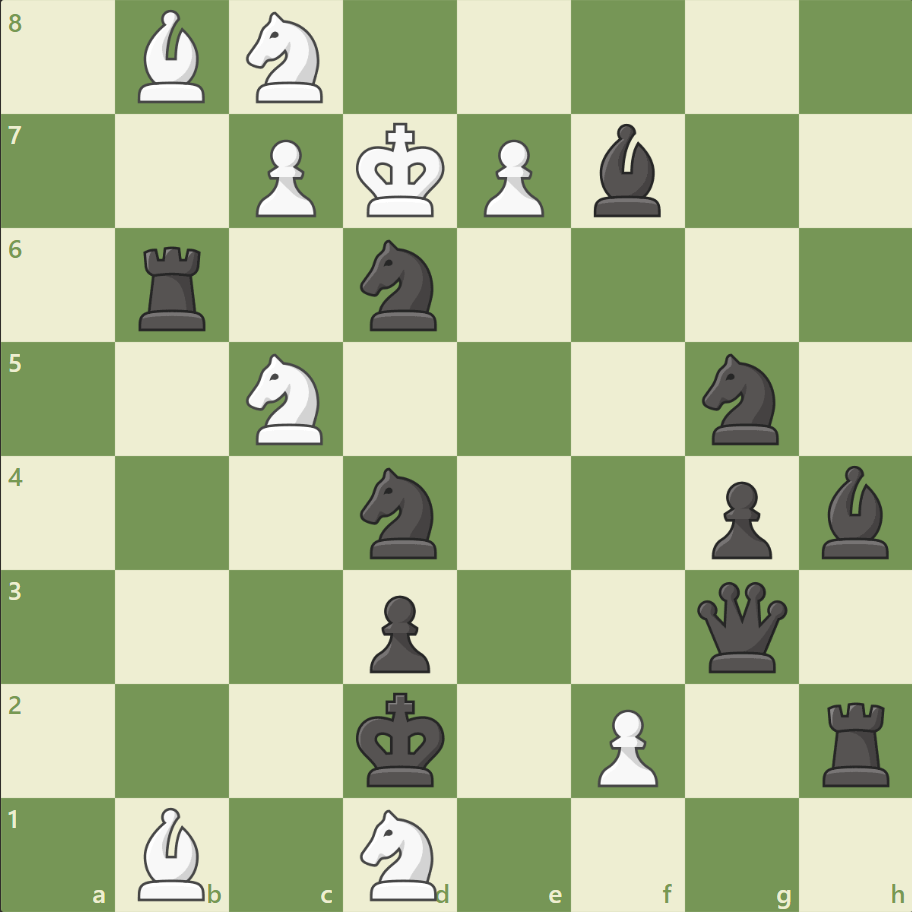B: (131, 6, 215, 109), (131, 801, 215, 904)
K: (351, 117, 451, 225)
N: (351, 802, 449, 904), (238, 7, 335, 110), (238, 348, 335, 450)
P: (247, 132, 322, 223), (474, 132, 549, 223), (588, 700, 662, 791)
b: (812, 460, 896, 563), (585, 120, 669, 222)
k: (351, 685, 451, 793)
n: (351, 234, 449, 337), (351, 461, 449, 564), (692, 348, 789, 450)
p: (701, 473, 776, 564), (361, 586, 435, 677)
q: (691, 576, 790, 676)
r: (814, 693, 897, 790), (133, 239, 215, 336)
